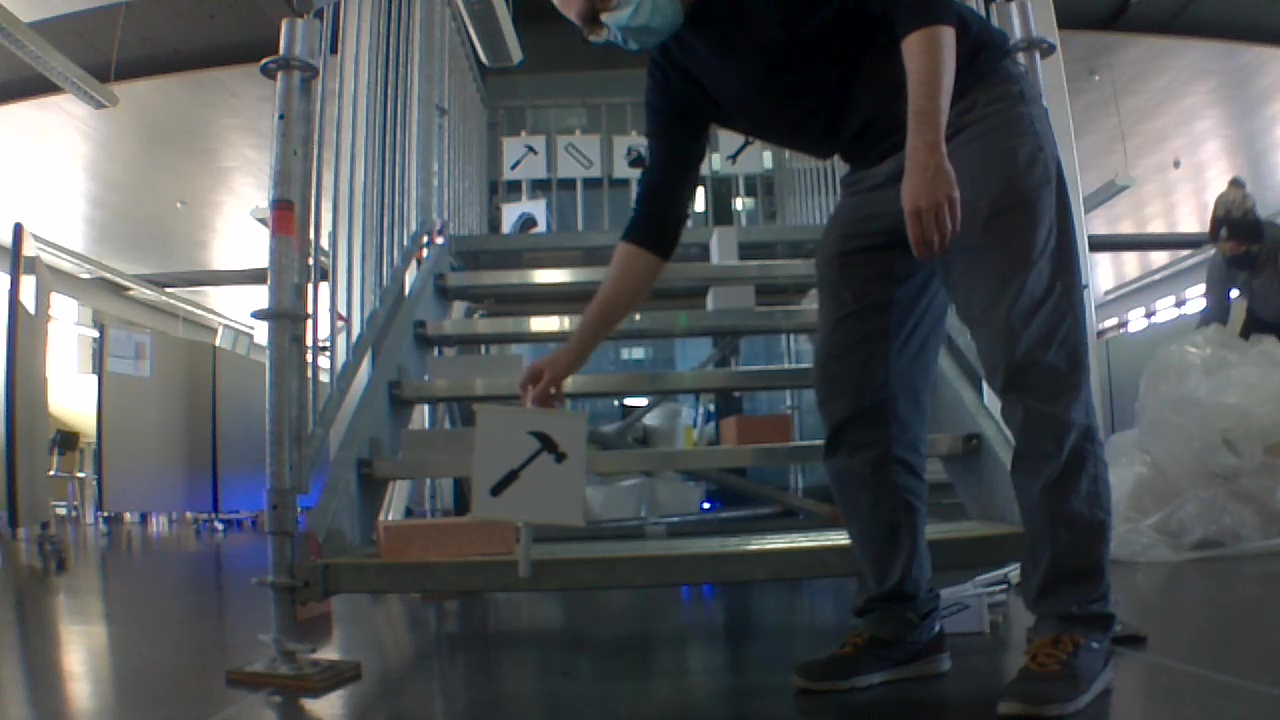brick: (375, 515, 513, 559), (430, 355, 523, 380), (404, 430, 475, 460), (719, 415, 791, 444), (704, 284, 753, 309), (711, 226, 738, 261)
bucket: (620, 142, 648, 171)
hammer: (483, 424, 569, 502), (503, 137, 544, 176)
ruler: (559, 137, 593, 173)
taco: (506, 208, 540, 233)
wrench: (719, 132, 757, 168)
